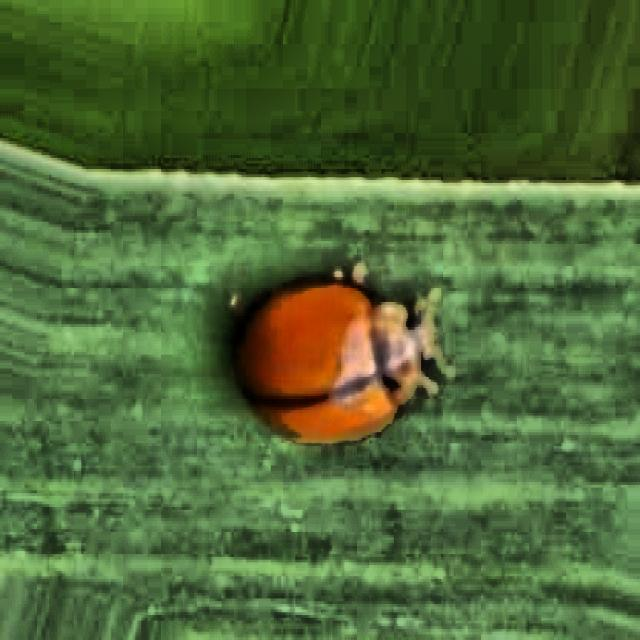Ladybug: (218, 231, 452, 471)
